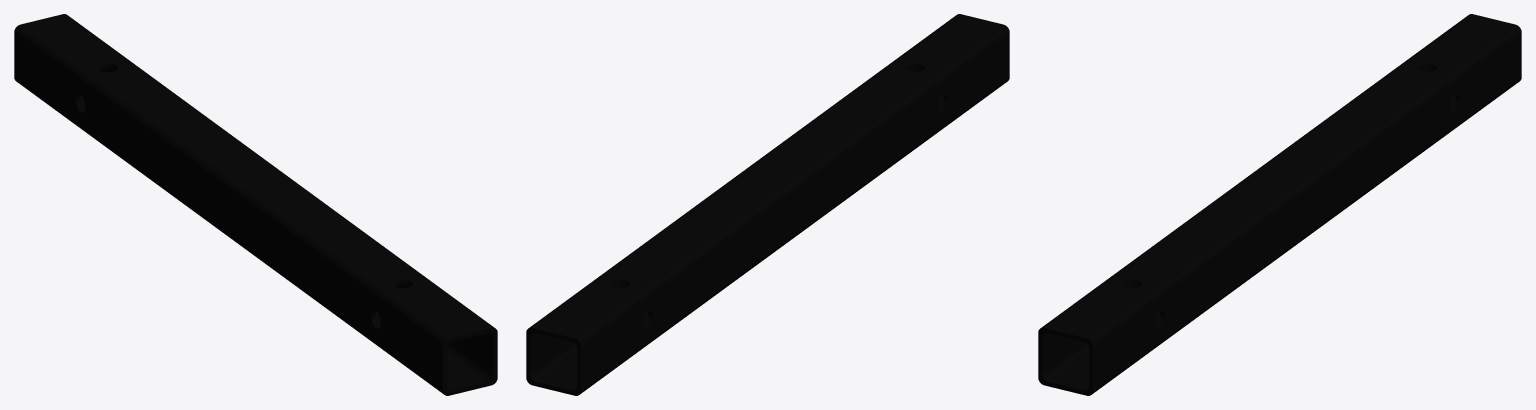
The model's file is Profile_270_UV.glb.
3 renders of one model, left to right at view 1: azimuth 30°, elevation 25°; view 2: azimuth 150°, elevation 25°; view 3: azimuth 330°, elevation 25°, orthographic.
Parts seen in each view (by area): view 1: Profile_270; view 2: Profile_270; view 3: Profile_270.
Boxes of the visible parts, box(x1,y1,x2,y2) form: Profile_270: box(14, 14, 497, 395); Profile_270: box(526, 14, 1009, 395); Profile_270: box(1038, 14, 1521, 395).
Size of the model in its own units: 0.02 by 0.02 by 0.27.
1 material, 1 textured.
